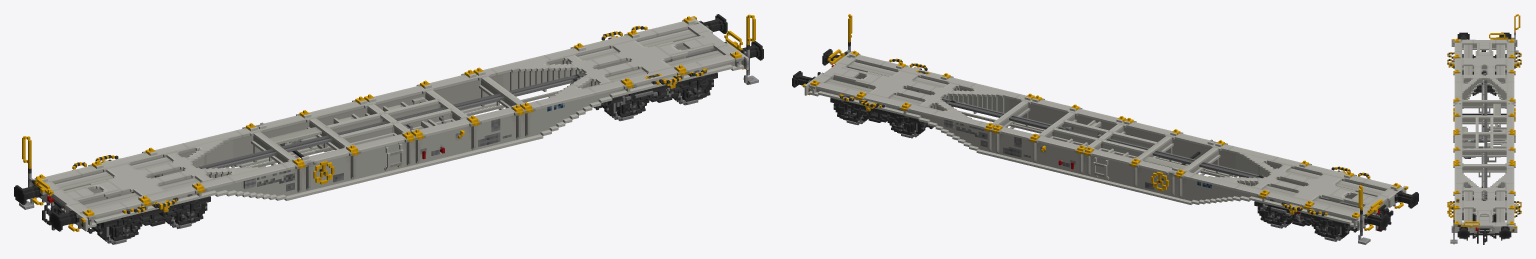
The model's file is vtg_sgns_60.obj.
3 views of the same model, side by side, from view 1: azimuth 30°, elevation 25°; view 2: azimuth 150°, elevation 25°; view 3: azimuth 270°, elevation 25° (orthographic). The views are drawn at different scales.
Parts seen in each view (by area): view 1: FRAME_1, FRAME_2, Braker_Valve, Braker_1, BOGEY_FRONT_Frame, BOGEY_REAR_Frame, BOGEY_FRONT_Primary_Suspension, Braker_Mechahhhnism, BOGEY_REAR_Primary_Suspension, Handbrake_Mount; view 2: FRAME_1, FRAME_2, Braker_Valve, Braker_1, BOGEY_FRONT_Frame, BOGEY_REAR_Frame, BOGEY_REAR_Primary_Suspension, BOGEY_FRONT_Primary_Suspension, Braker_Mechahhhnism; view 3: FRAME_1, FRAME_2, Braker_Mechahhhnism, Braker_Valve, Braker_1, BOGEY_REAR_Frame, BOGEY_FRONT_Frame, Handbrake_Mount, WIDGET_67_TOGGLE_CG_h1_HIDE_INVERT, WIDGET_70_TOGGLE_CG_h2_HIDE_INVERT, WIDGET_69_TOGGLE_CG_h2_HIDE, WIDGET_68_TOGGLE_CG_h1_HIDE (+1 smaller).
Boxes of the visible parts, box(x1,y1,x2,y2) form: FRAME_1: box(14, 100, 417, 231); FRAME_2: box(368, 14, 763, 169); Braker_Valve: box(395, 48, 715, 159); Braker_1: box(154, 121, 387, 177); BOGEY_FRONT_Frame: box(87, 196, 210, 233); BOGEY_REAR_Frame: box(593, 72, 717, 109); BOGEY_FRONT_Primary_Suspension: box(110, 202, 203, 241); Braker_Mechahhhnism: box(246, 90, 560, 167); BOGEY_REAR_Primary_Suspension: box(617, 78, 710, 117); Handbrake_Mount: box(269, 127, 321, 146); FRAME_1: box(1082, 121, 1418, 244); FRAME_2: box(792, 49, 1122, 178); Braker_Valve: box(917, 91, 1101, 169); Braker_1: box(1106, 138, 1359, 208); BOGEY_FRONT_Frame: box(1254, 201, 1357, 232); BOGEY_REAR_Frame: box(830, 98, 933, 128); BOGEY_REAR_Primary_Suspension: box(837, 103, 914, 135); BOGEY_FRONT_Primary_Suspension: box(1260, 206, 1338, 238); Braker_Mechahhhnism: box(959, 111, 1229, 177); FRAME_1: box(1447, 32, 1521, 142); FRAME_2: box(1447, 132, 1521, 244); Braker_Mechahhhnism: box(1463, 84, 1506, 200); Braker_Valve: box(1462, 136, 1487, 200); Braker_1: box(1462, 72, 1487, 142); BOGEY_REAR_Frame: box(1462, 196, 1506, 238); BOGEY_FRONT_Frame: box(1462, 54, 1506, 95); Handbrake_Mount: box(1493, 103, 1500, 127); WIDGET_67_TOGGLE_CG_h1_HIDE_INVERT: box(1489, 33, 1515, 39); WIDGET_70_TOGGLE_CG_h2_HIDE_INVERT: box(1453, 221, 1479, 226); WIDGET_69_TOGGLE_CG_h2_HIDE: box(1448, 202, 1454, 225); WIDGET_68_TOGGLE_CG_h1_HIDE: box(1514, 14, 1520, 38).
Size of the model in its own units: 19.69 by 2.31 by 3.12.
1 material, 1 textured.
